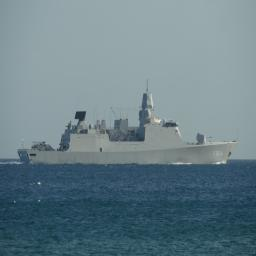Fragata: (18, 77, 241, 167)
